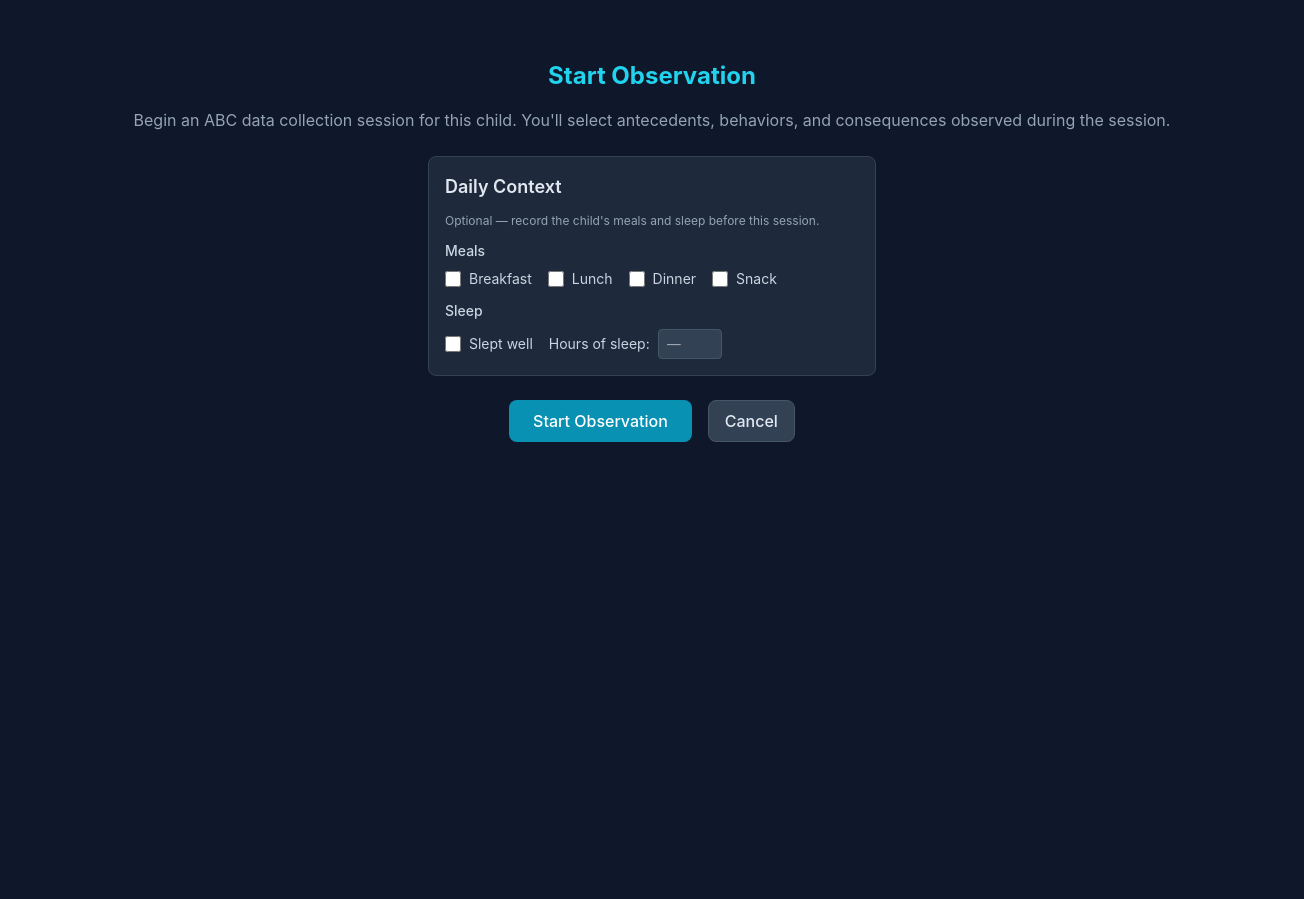
Test: ObservationPage › starts observation and shows active recording view
Click the button "Start Observation" at point(600, 421), box 509,400 -> 692,442
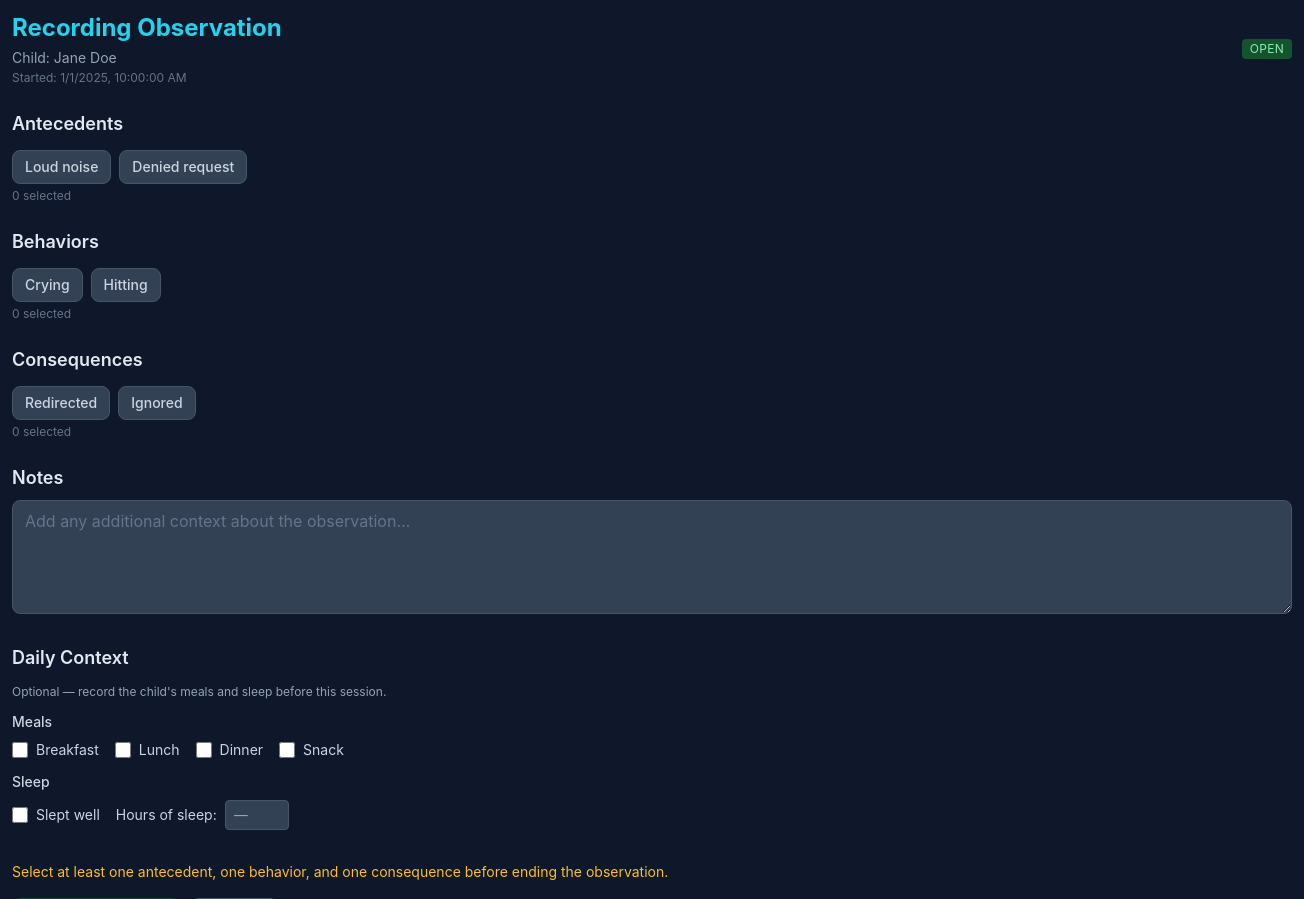
Now the heading "Recording Observation" is shown, box 12,12 -> 282,44
Now the text "Jane Doe" is shown, box 12,49 -> 117,66
Now the button "Loud noise" is shown, box 12,150 -> 111,184
